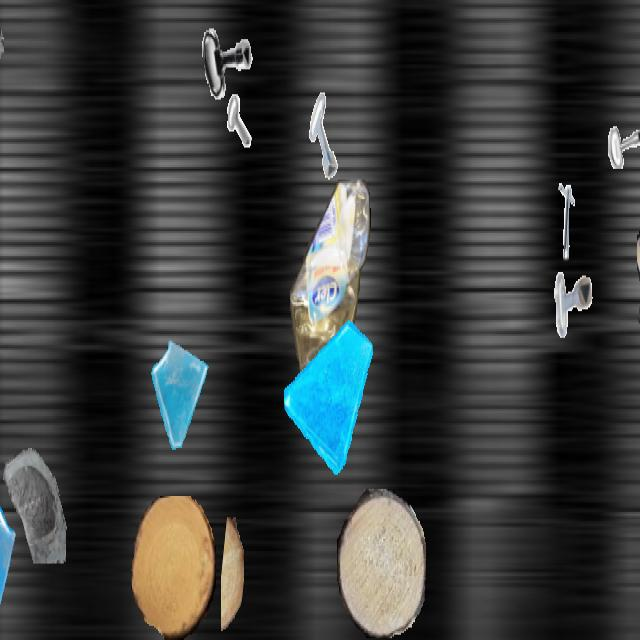glass: (284, 314, 374, 474), (0, 426, 69, 562), (148, 338, 212, 452), (0, 478, 17, 638), (0, 2, 4, 108)
metal: (195, 2, 257, 112), (545, 180, 599, 276), (301, 90, 351, 180), (596, 76, 640, 169), (203, 91, 251, 176), (552, 263, 594, 338)
plastic: (290, 180, 372, 439), (637, 144, 640, 297), (638, 240, 640, 396)
wood: (337, 489, 425, 638), (131, 496, 215, 638), (221, 518, 243, 638)
